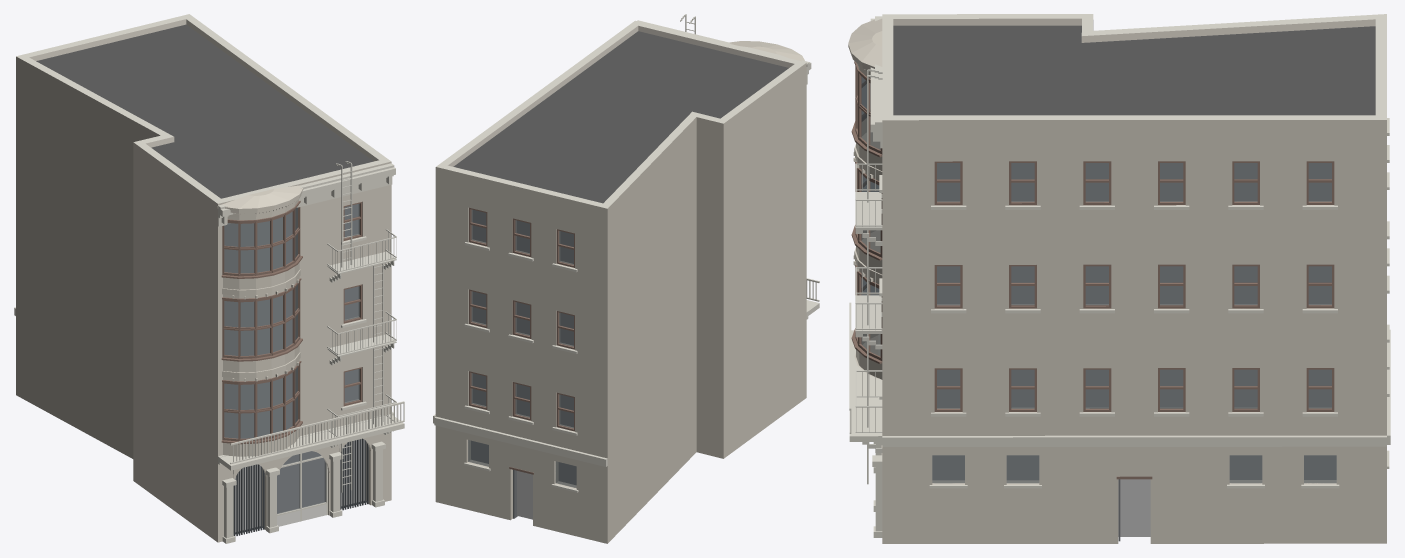
File: exterior.glb
3 renders of one model, left to right at view 1: azimuth 30°, elevation 25°; view 2: azimuth 150°, elevation 25°; view 3: azimuth 270°, elevation 25°, orthographic. The views are drawn at different scales.
Visible parts, largest first — view 1: shell, roof, bay-glazing-hyb, shadow-proxy, hand-ornament, bay-windows-hyb, fire-escape-ladder, storefront, glazing, trim, frames, hyC-arches-5; view 2: shell, roof, glazing, shadow-proxy, trim, frames, bay-windows-hyb; view 3: shell, roof, glazing, shadow-proxy, trim, frames, fire-escape-ladder, bay-windows-hyb, bay-glazing-hyb, hand-ornament.
Part boxes in pixels (x1,y1,x2,y2): shell: (16, 14, 391, 542); roof: (36, 24, 373, 198); bay-glazing-hyb: (221, 201, 302, 444); shadow-proxy: (224, 204, 364, 532); hand-ornament: (218, 401, 404, 543); bay-windows-hyb: (217, 185, 303, 456); fire-escape-ladder: (327, 161, 396, 492); storefront: (233, 438, 368, 536); glazing: (277, 203, 359, 513); trim: (14, 163, 395, 464); frames: (343, 202, 362, 406); hyC-arches-5: (233, 436, 370, 479); shell: (435, 20, 806, 543); roof: (453, 31, 788, 203); glazing: (468, 209, 576, 487); shadow-proxy: (471, 210, 576, 519); trim: (433, 20, 811, 492); frames: (469, 207, 574, 431); bay-windows-hyb: (729, 41, 807, 66); shell: (882, 14, 1386, 543); roof: (893, 25, 1375, 115); glazing: (932, 163, 1336, 483); shadow-proxy: (932, 163, 1336, 536); trim: (870, 16, 1390, 488); frames: (934, 161, 1334, 411); fire-escape-ladder: (855, 69, 882, 484); bay-windows-hyb: (848, 18, 882, 379); bay-glazing-hyb: (851, 61, 882, 363); hand-ornament: (849, 302, 882, 537).
Bounding box in the file's own units: 7.83 × 14.92 × 16.65.
